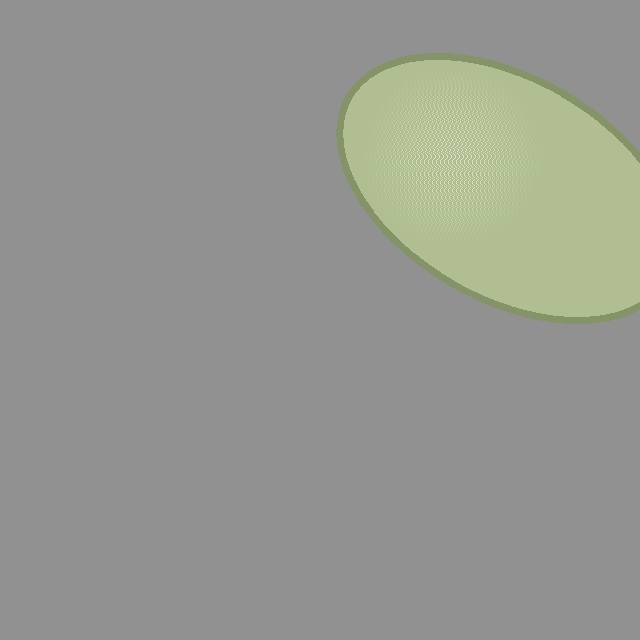lens: (340, 56, 640, 320)
